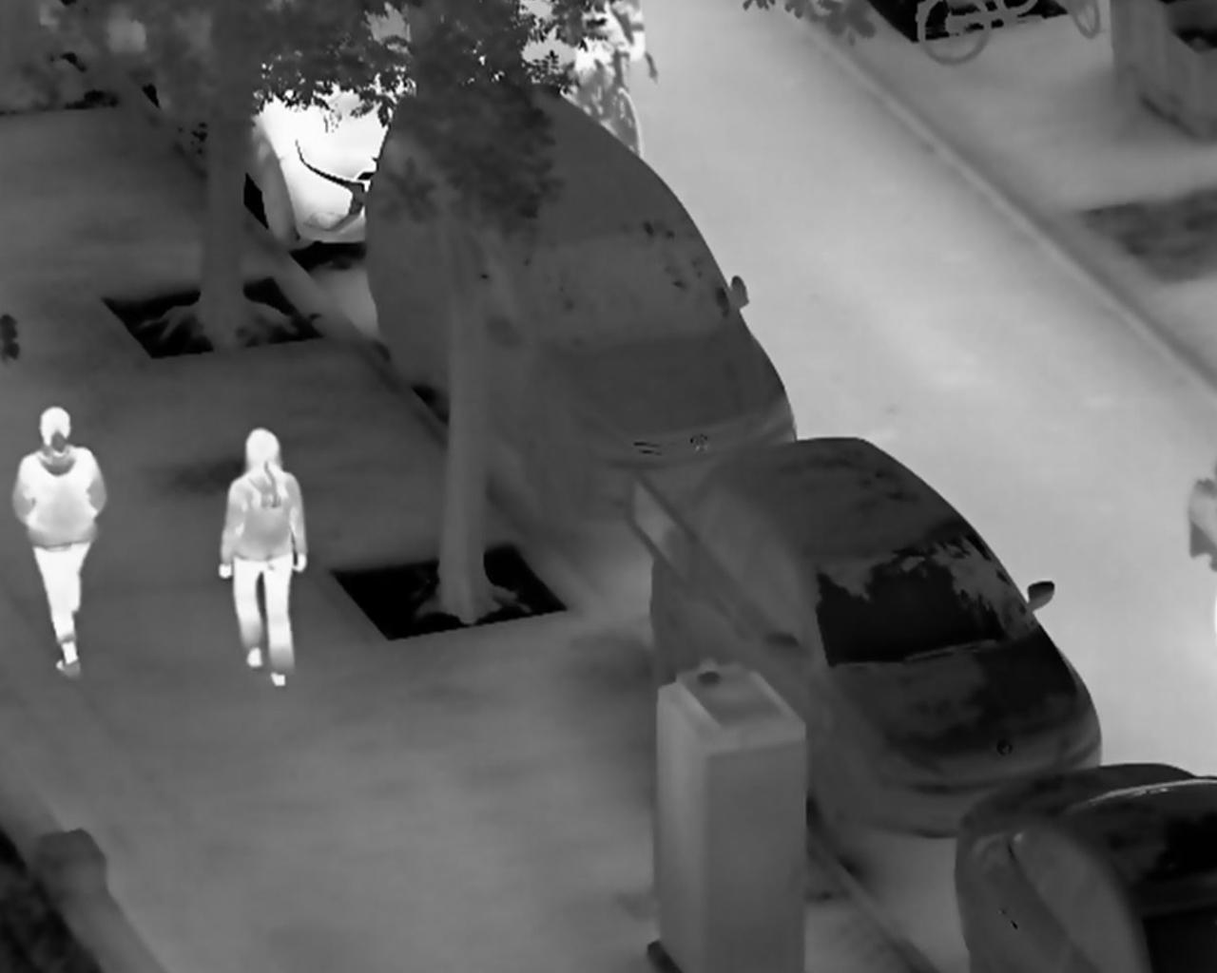person: (13, 403, 108, 683), (216, 425, 312, 697)
